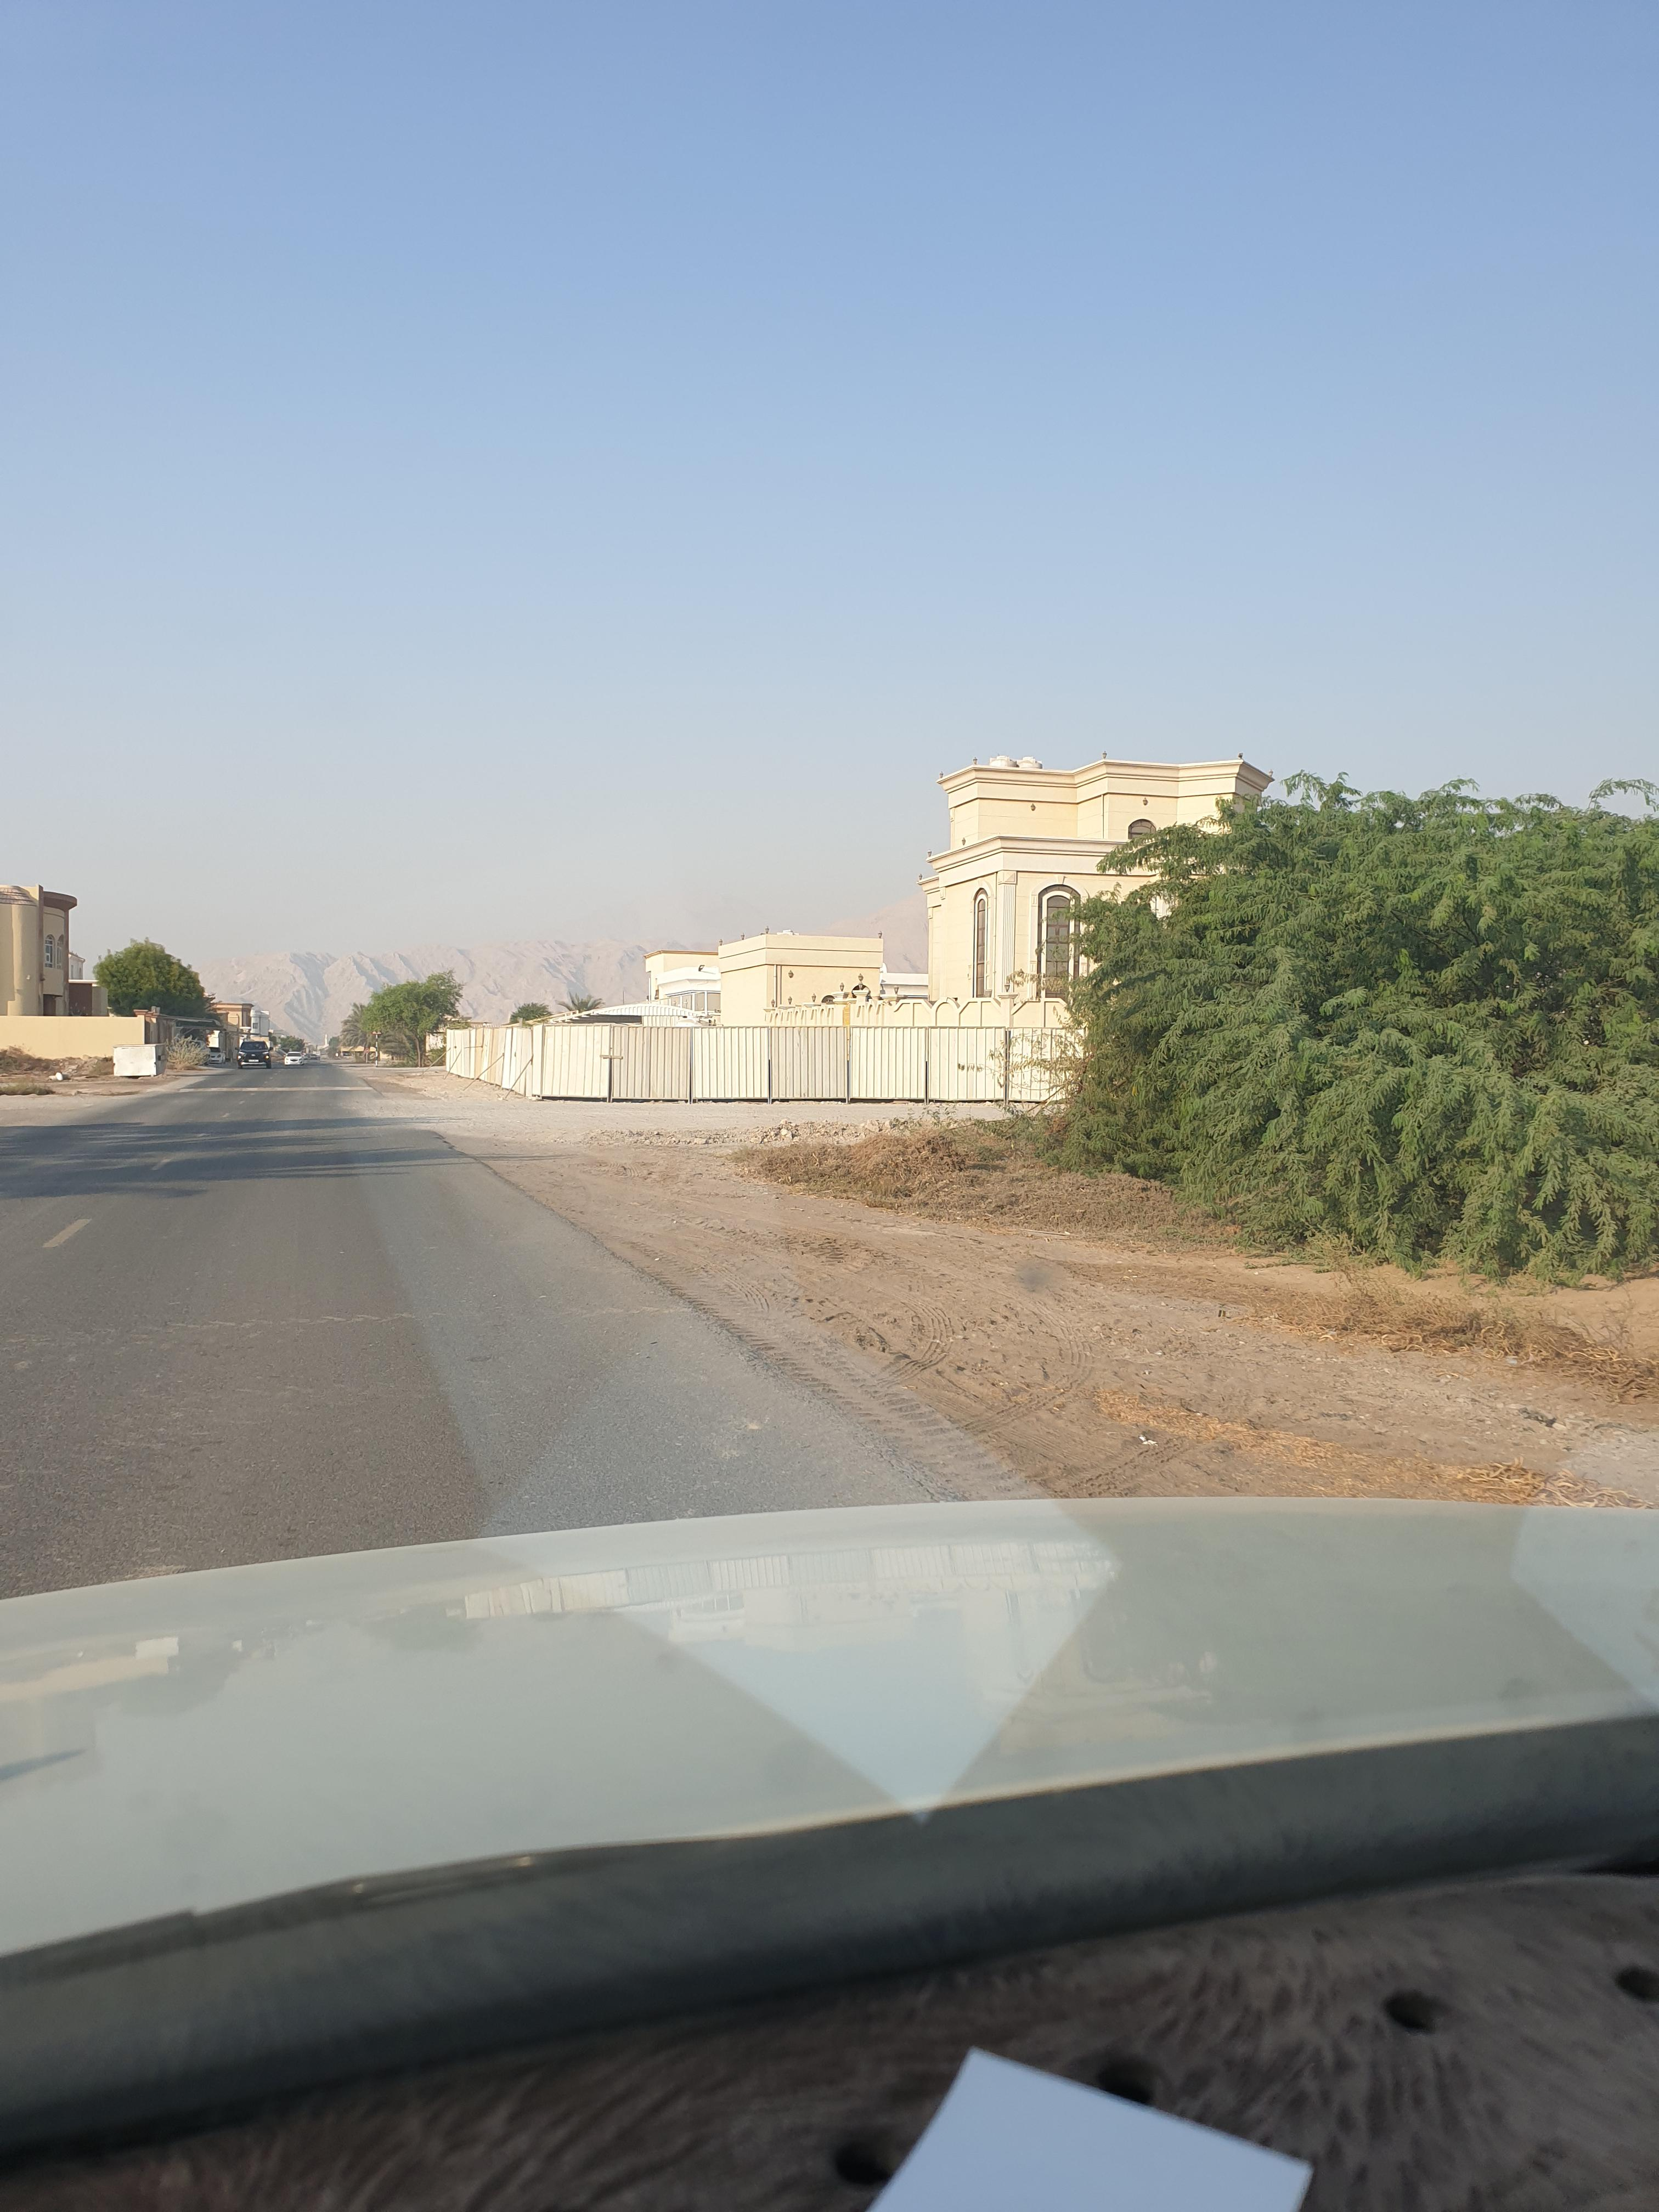fallen_trees: (1213, 1242, 1495, 1364), (1309, 1292, 1574, 1402), (716, 1141, 969, 1228), (678, 1122, 864, 1204), (779, 1158, 969, 1233), (1202, 1277, 1392, 1346)
